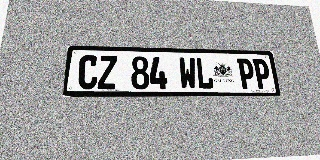4: (150, 56, 167, 89)
8: (131, 56, 149, 89)
C: (77, 55, 98, 89)
L: (195, 57, 214, 89)
P: (252, 59, 272, 89), (237, 58, 256, 89)
W: (179, 57, 197, 89)
Z: (97, 55, 117, 89)
